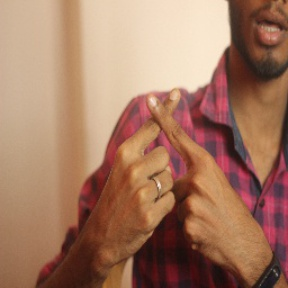X: (112, 79, 215, 184)
